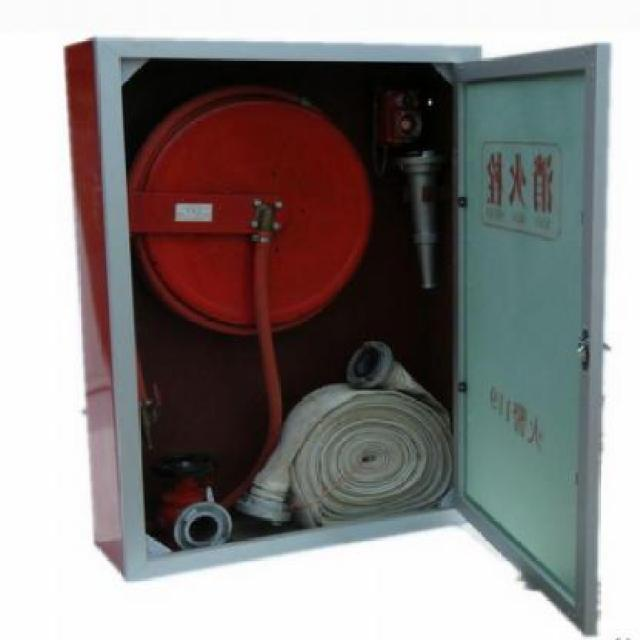firehydrant: (57, 28, 619, 639)
